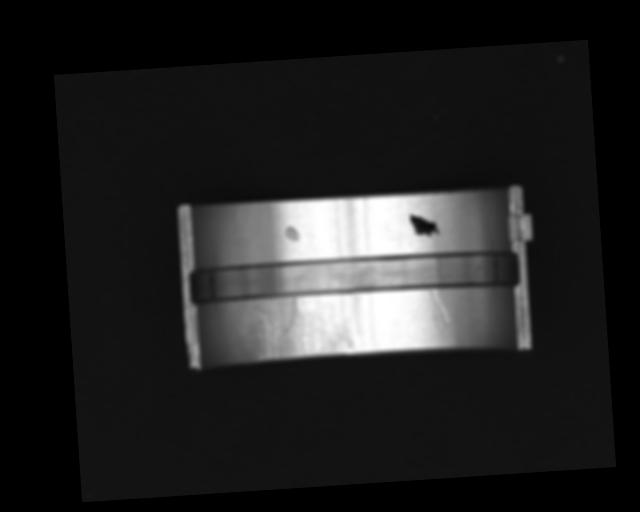blot: (408, 213, 440, 239)
bruise: (283, 224, 301, 242)
gap: (187, 246, 522, 306)
nick: (429, 287, 449, 331)
scratch: (243, 293, 354, 362)
